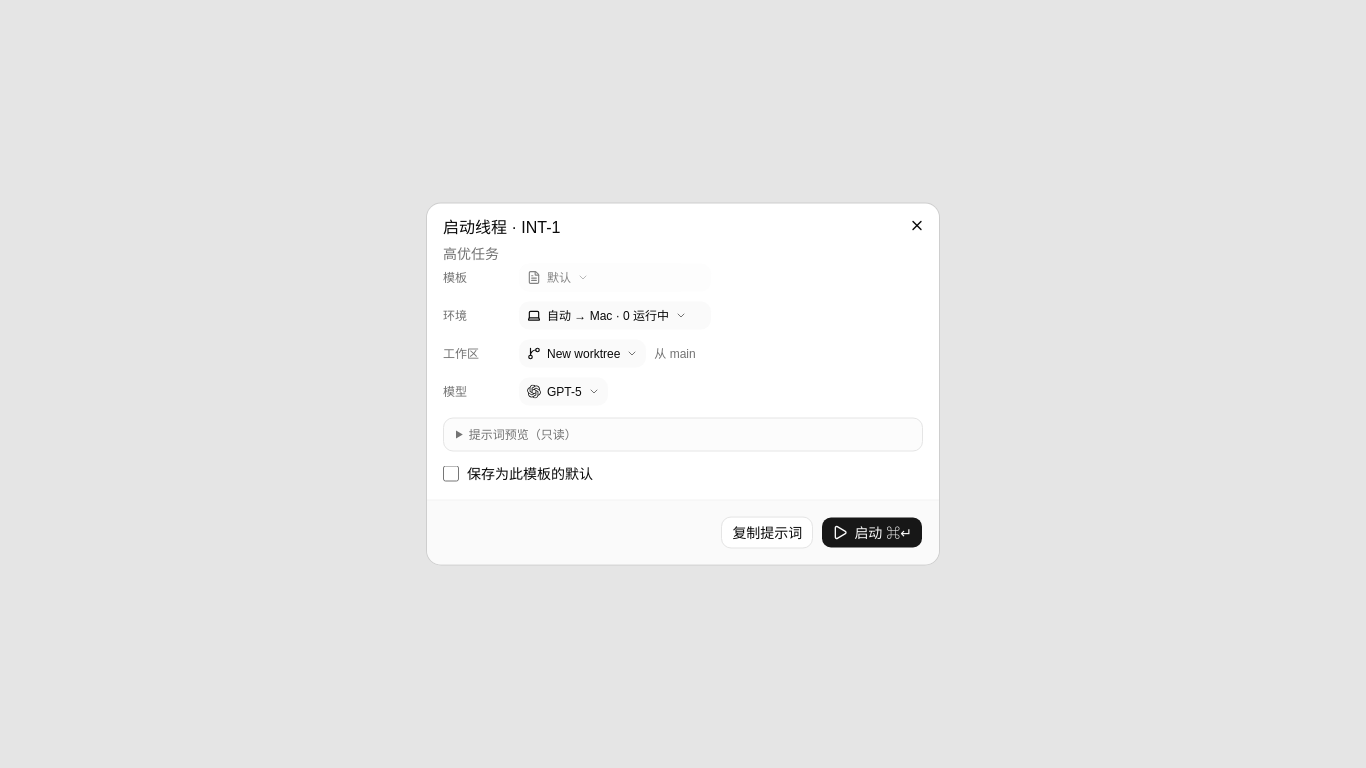
Scenario: LaunchIssueThreadDialog › shows an inline error when id generation throws (insecure HTTP context)
This screenshot has width=1366, height=768.
Click the button "启动 ⌘↵" at (872, 532), box left=821, top=516, right=923, bottom=548
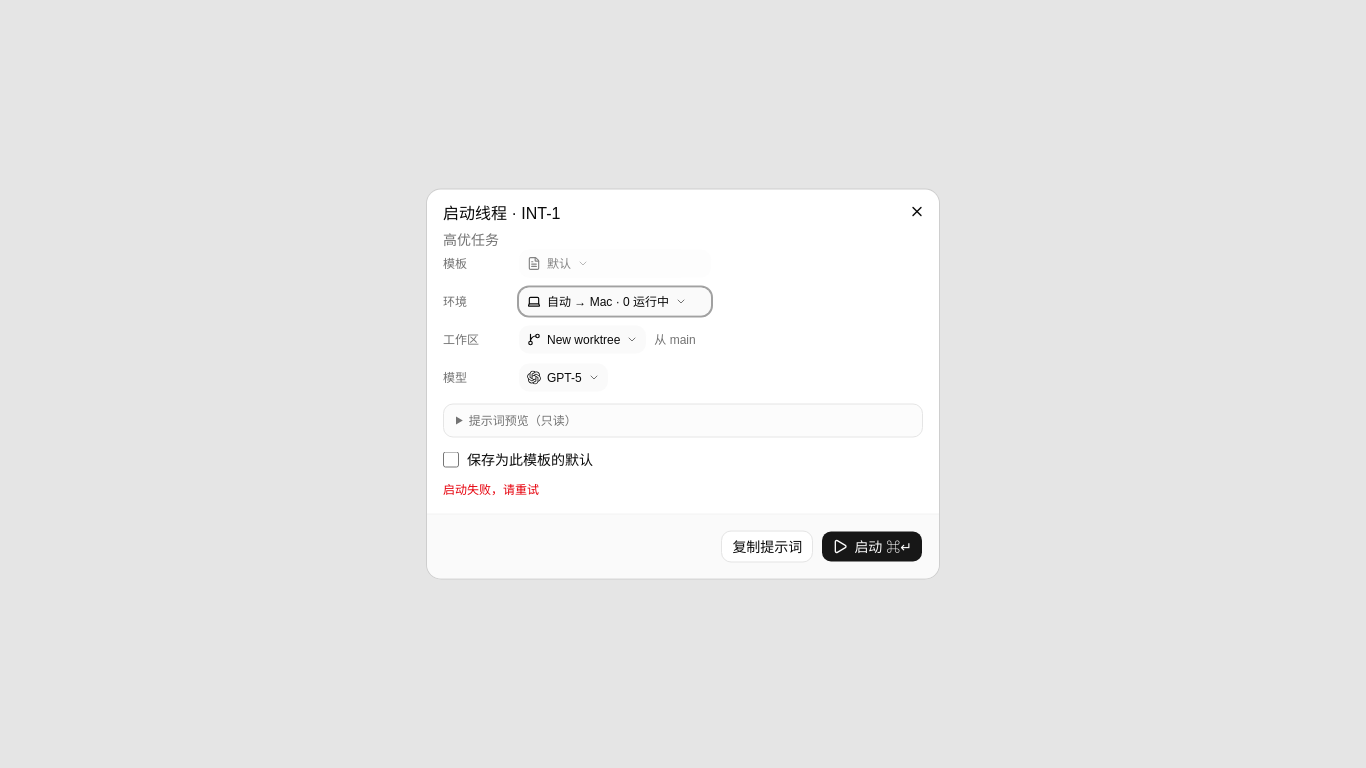
Result: the message reads "启动失败，请重试" at left=443, top=482, right=539, bottom=496
